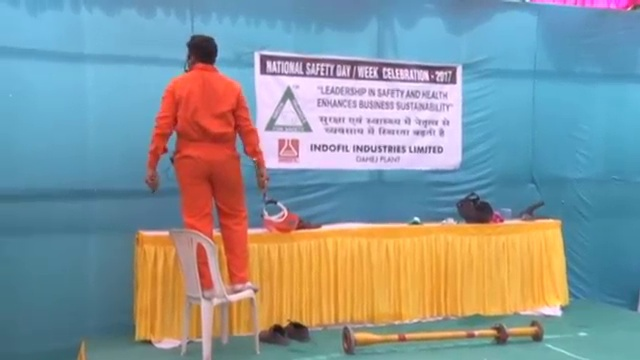helmet_off: (184, 34, 219, 68)
person: (137, 34, 270, 291)
